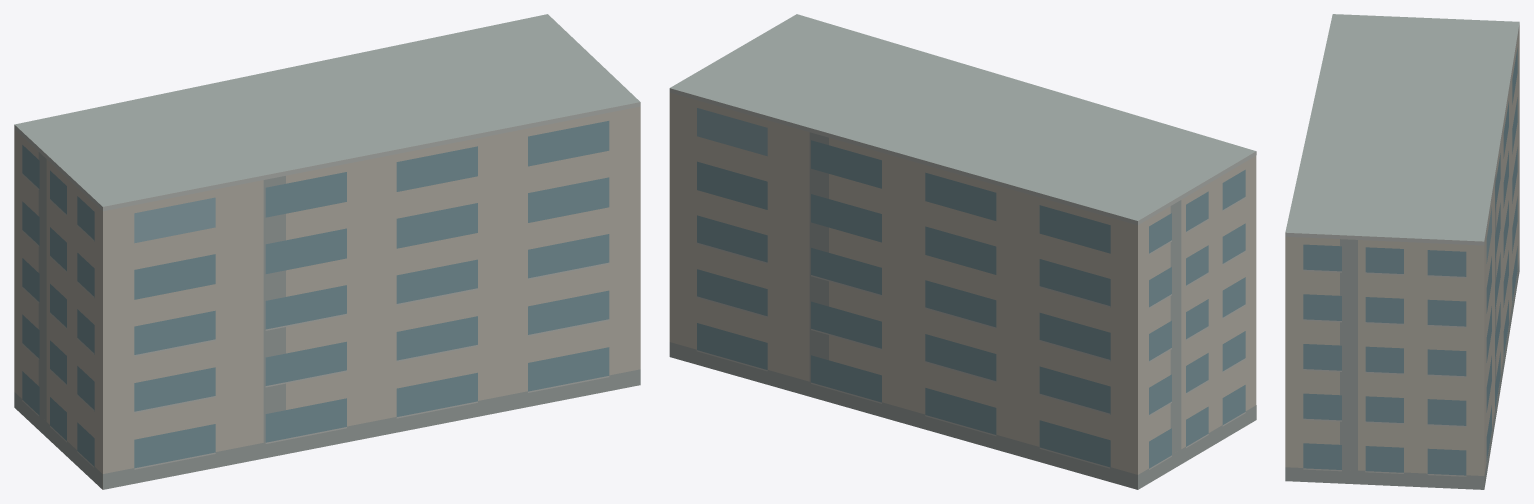
The model's file is residential-cec627ff-fa57-4d04-a16b-2a6d1ff4508a.glb.
3 views of the same model, side by side, from view 1: azimuth 30°, elevation 25°; view 2: azimuth 150°, elevation 25°; view 3: azimuth 270°, elevation 25° (orthographic). The views are drawn at different scales.
Visible parts, largest first — view 1: residential-cec627ff-fa57-4d04-a16b-2a6d1ff4508a.tmp; view 2: residential-cec627ff-fa57-4d04-a16b-2a6d1ff4508a.tmp; view 3: residential-cec627ff-fa57-4d04-a16b-2a6d1ff4508a.tmp.
Boxes of the visible parts, box(x1,y1,x2,y2) form: residential-cec627ff-fa57-4d04-a16b-2a6d1ff4508a.tmp: box(14, 14, 640, 489); residential-cec627ff-fa57-4d04-a16b-2a6d1ff4508a.tmp: box(669, 14, 1256, 489); residential-cec627ff-fa57-4d04-a16b-2a6d1ff4508a.tmp: box(1285, 14, 1519, 489).
Bounding box in the file's own units: 29.97 × 15.25 × 13.06.
